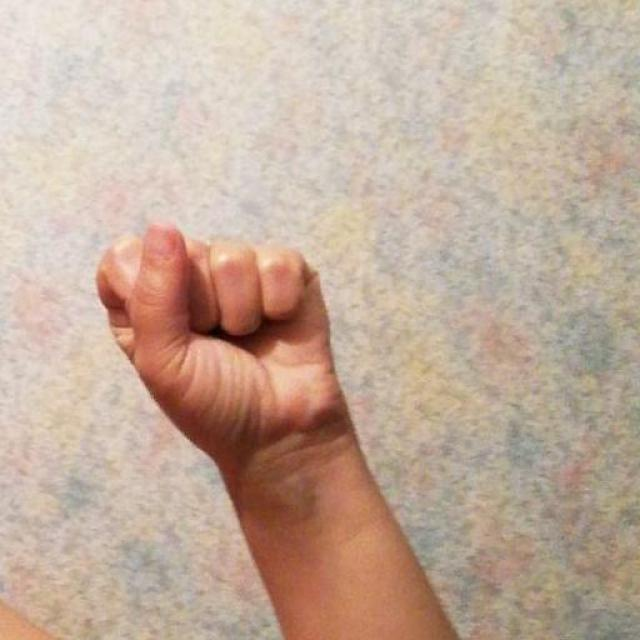hand: (94, 220, 361, 506)
